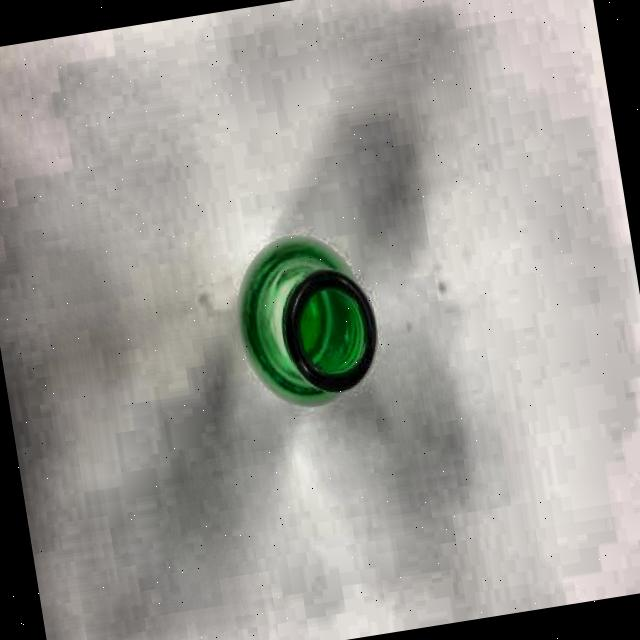glass: (214, 220, 398, 416)
